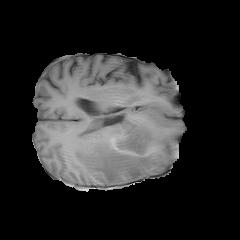glioma: (73, 117, 162, 184)
